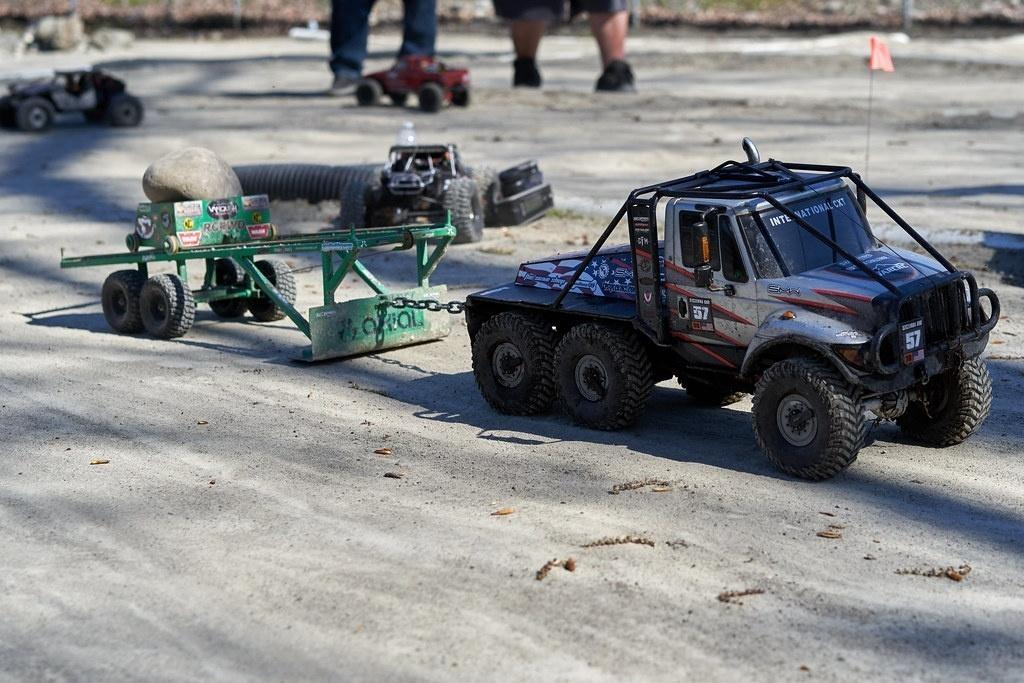Car: (472, 151, 1001, 496), (11, 46, 150, 149), (356, 43, 488, 124)
